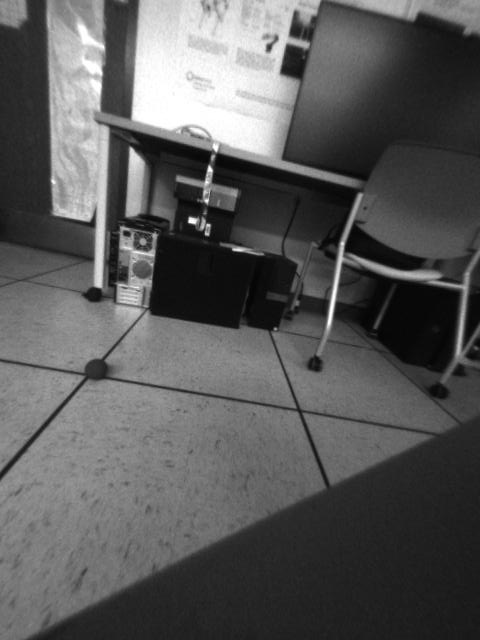dogtoy: (75, 351, 119, 387)
